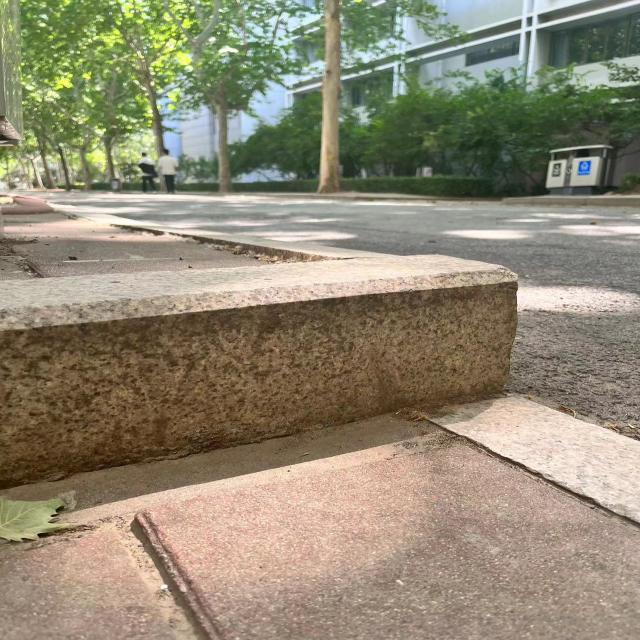curb: (1, 252, 516, 480)
